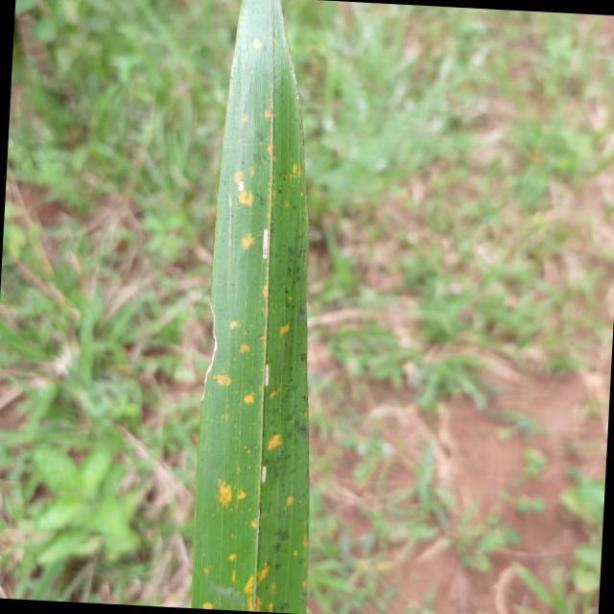Kalium: (191, 0, 314, 614)
